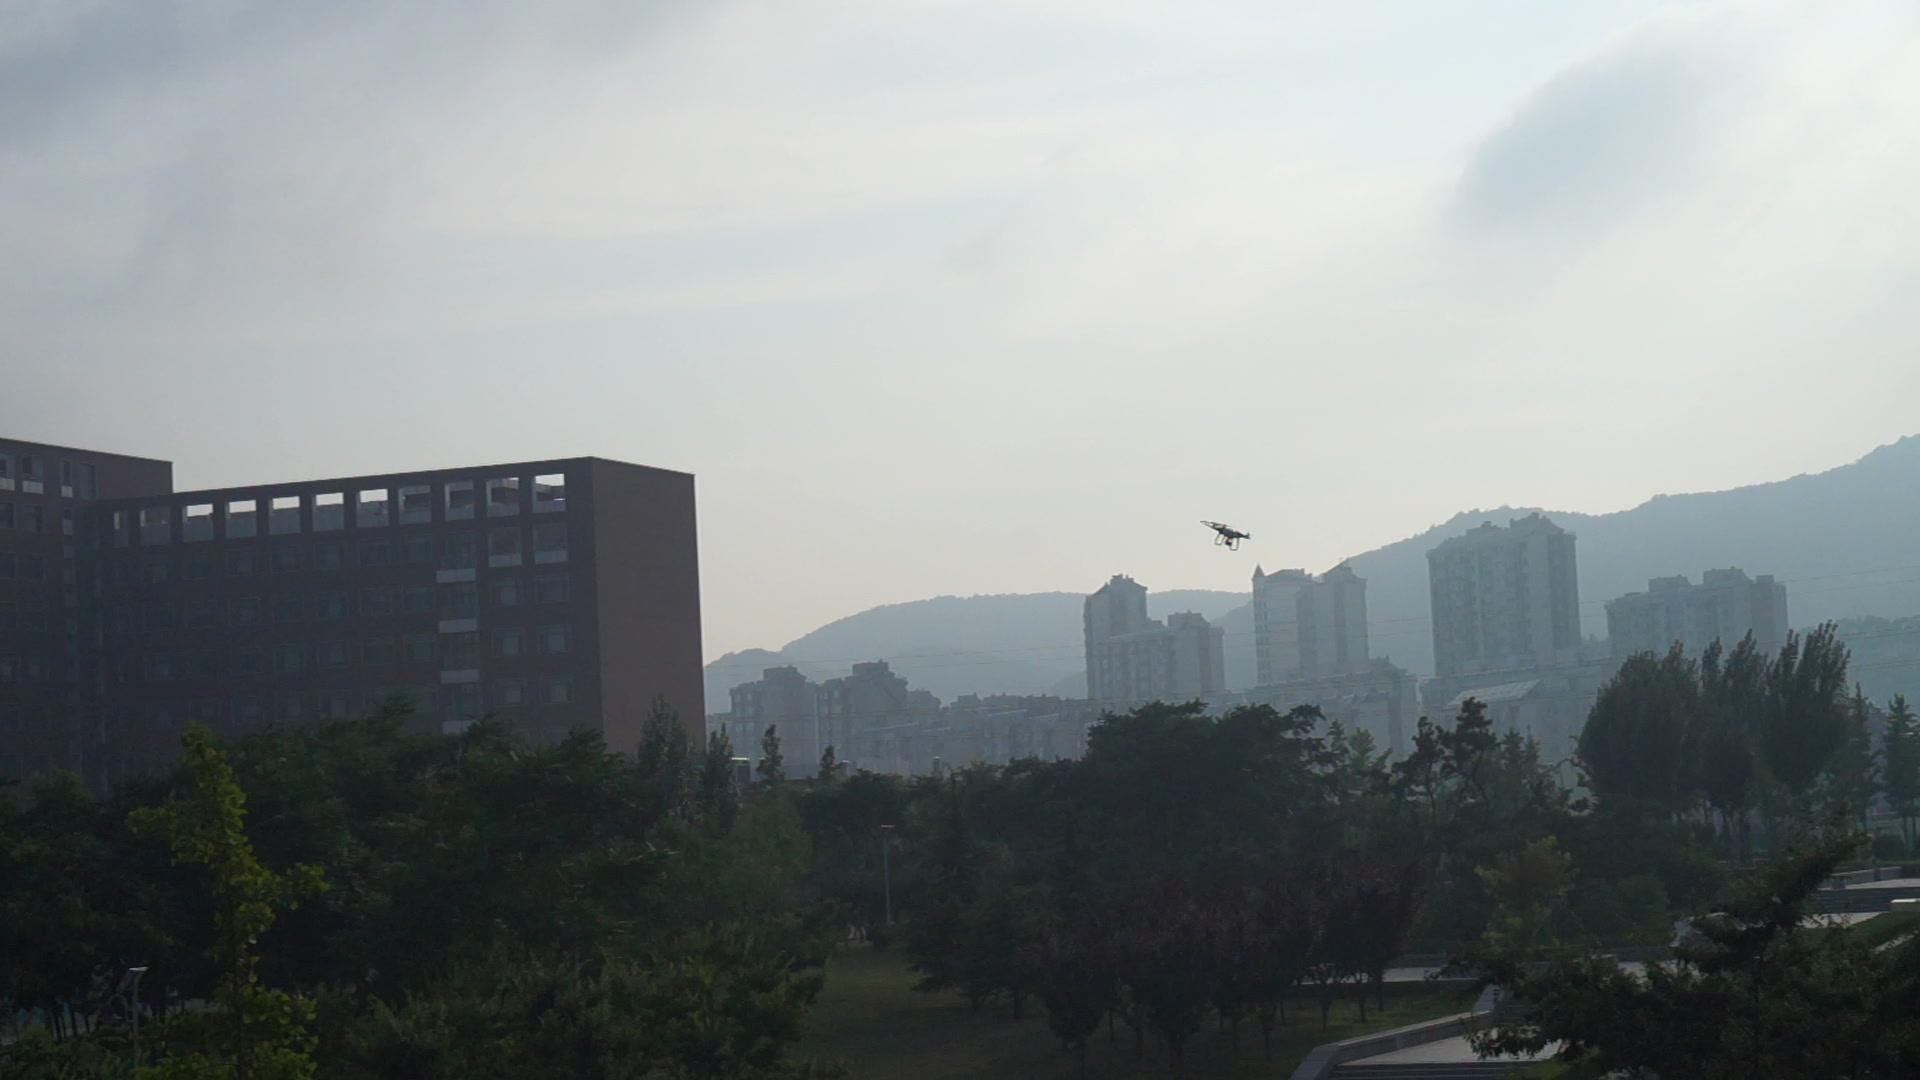UAV: (1201, 520, 1251, 553)
